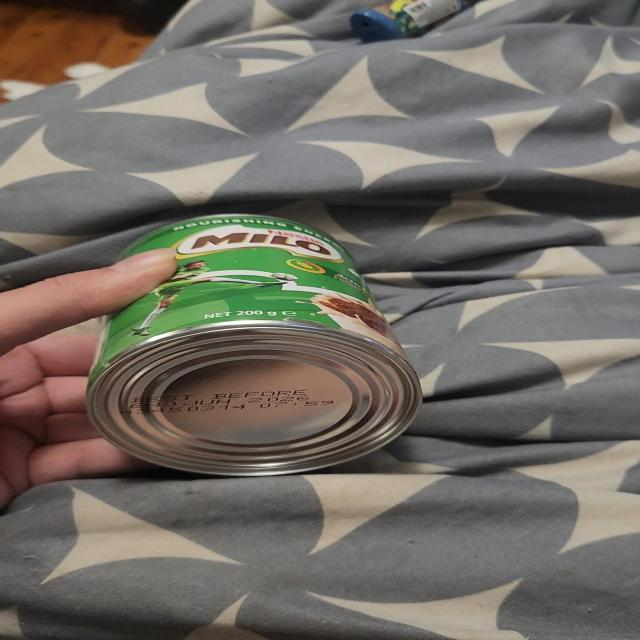nestle_milo_tin: (87, 214, 423, 476)
